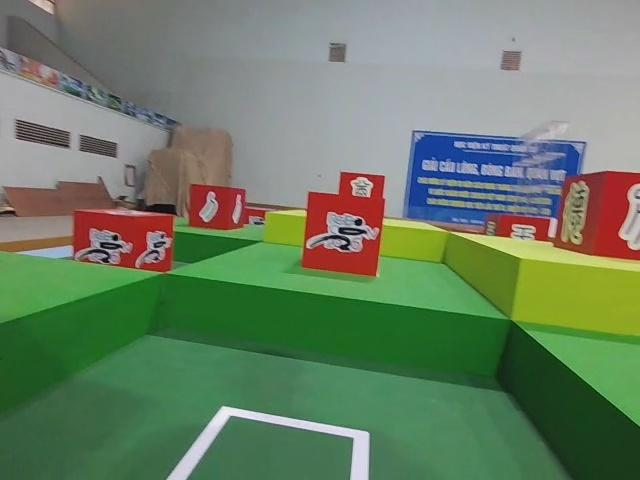R1: (299, 188, 387, 280), (70, 204, 176, 278)
R2 Fake: (552, 168, 640, 263)
R2 Real: (187, 181, 248, 232)
